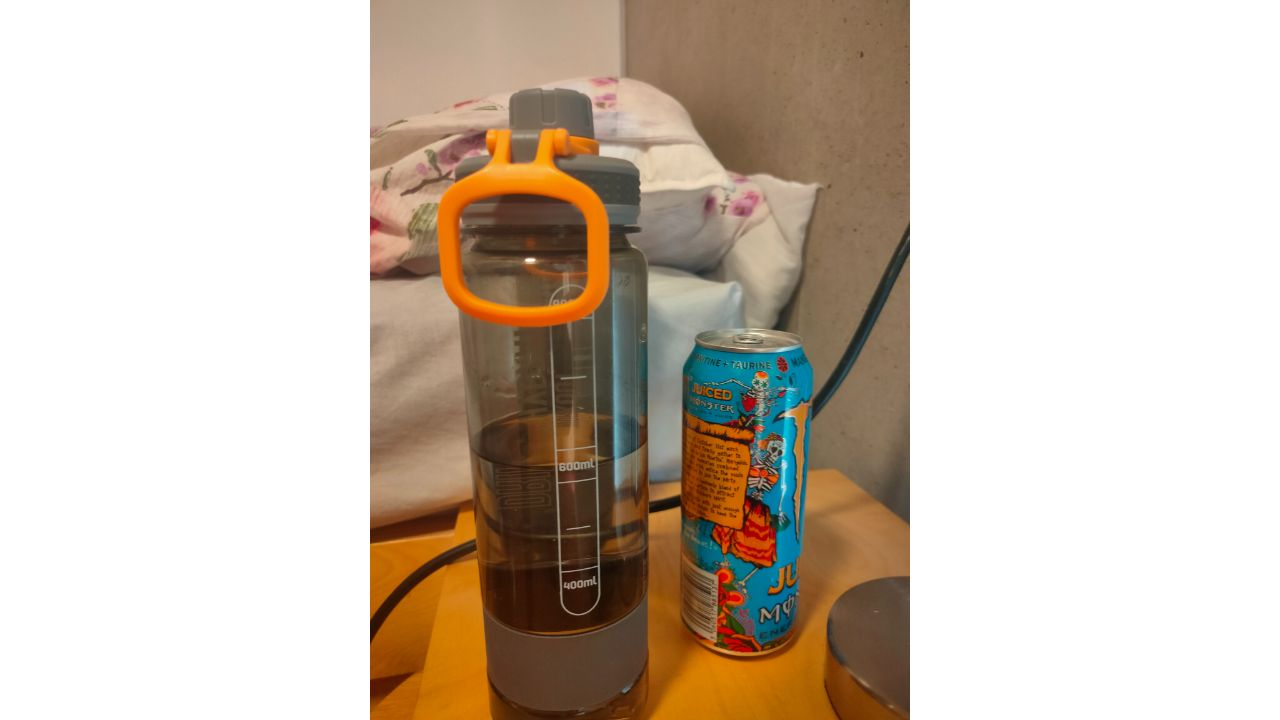Can: (685, 335, 808, 658)
